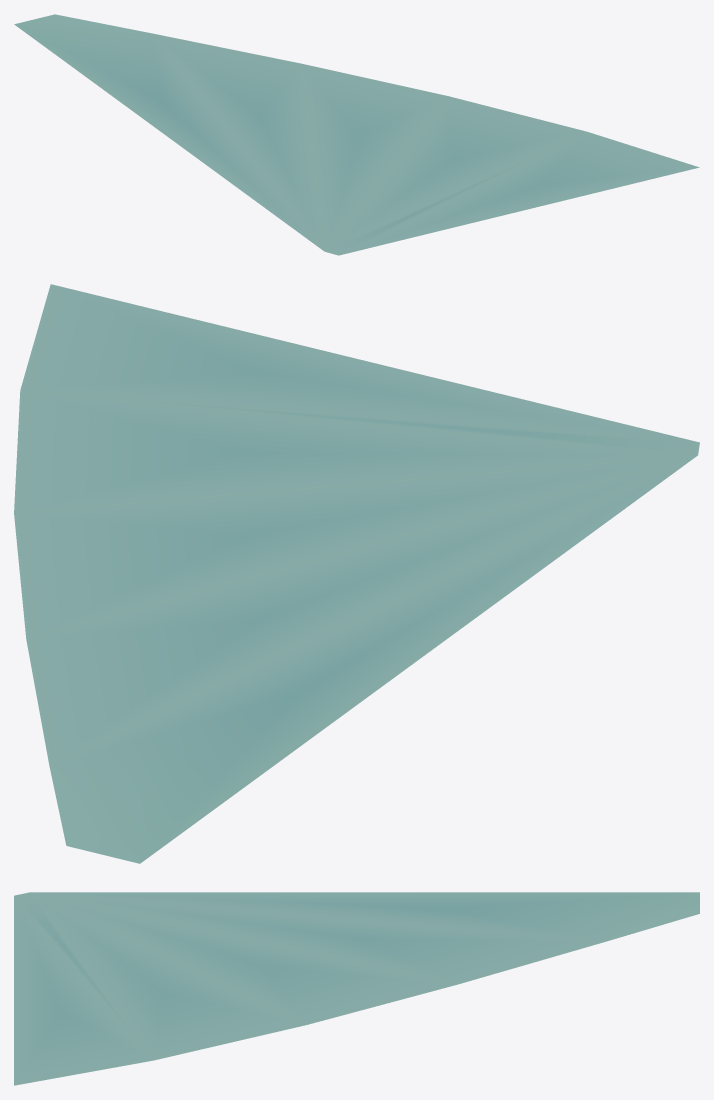
The model's file is water-14-3.glb.
The picture shows the model from 3 angles, top to bottom: view 1: azimuth 30°, elevation 25°; view 2: azimuth 150°, elevation 25°; view 3: azimuth 270°, elevation 25°; orthographic projection. The views are drawn at different scales.
Bounding box in the file's own units: 10.68 × 0 × 16.
